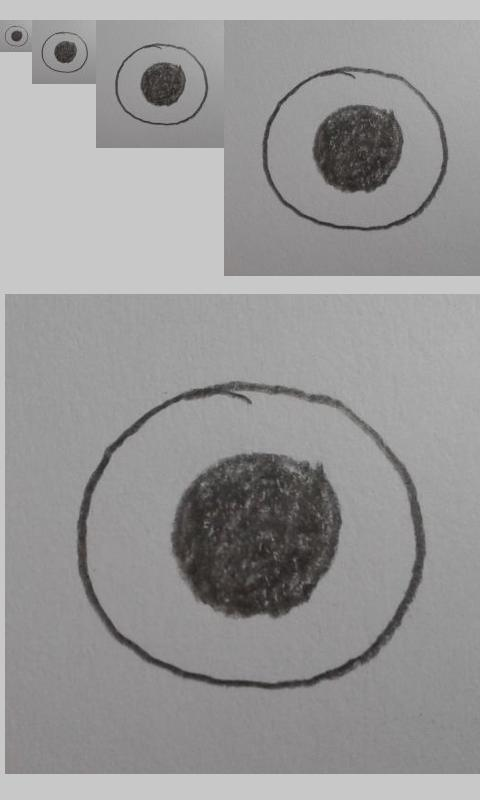radio_button: (75, 379, 430, 694), (260, 65, 449, 232), (113, 41, 210, 127), (41, 31, 89, 74), (3, 24, 29, 48)
